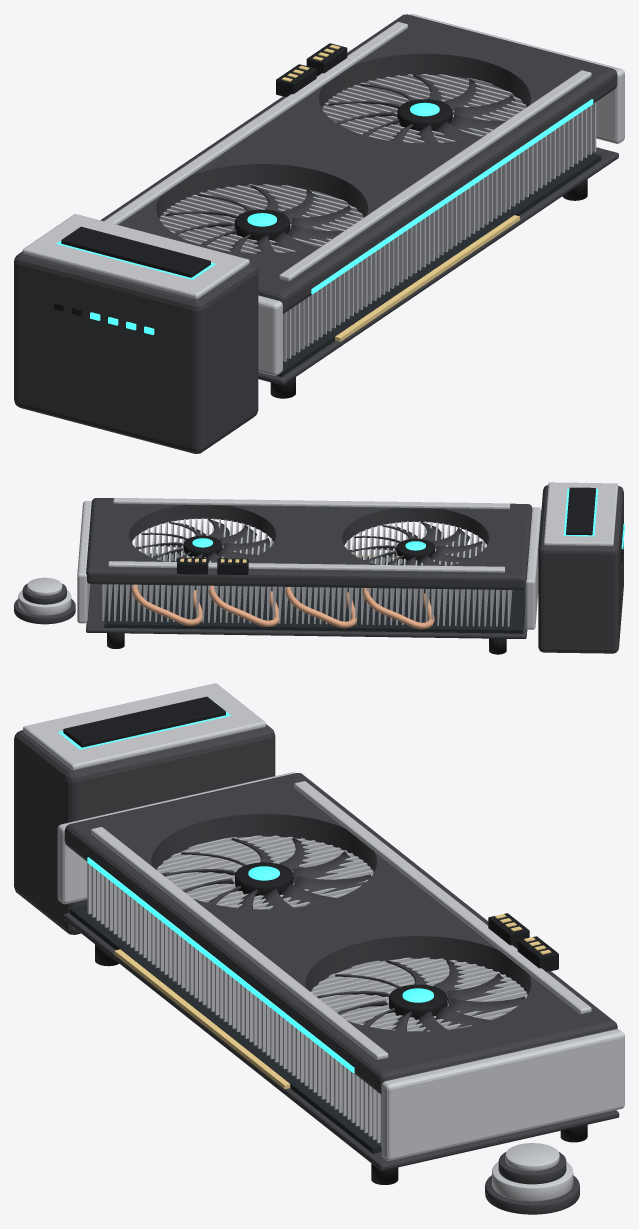
The model's file is machine_v2.glb.
3 renders of one model, top to bottom at view 1: azimuth 30°, elevation 25°; view 2: azimuth 150°, elevation 25°; view 3: azimuth 270°, elevation 25°, orthographic. The views are drawn at different scales.
Visible parts, largest first — view 1: MachineV2; view 2: MachineV2; view 3: MachineV2.
Boxes of the visible parts, left/top/right/bottom form: MachineV2: left=14, top=14, right=624, bottom=453; MachineV2: left=14, top=482, right=624, bottom=654; MachineV2: left=14, top=683, right=624, bottom=1214.
Size of the model in its own units: 7.81 by 1.69 by 5.41.
